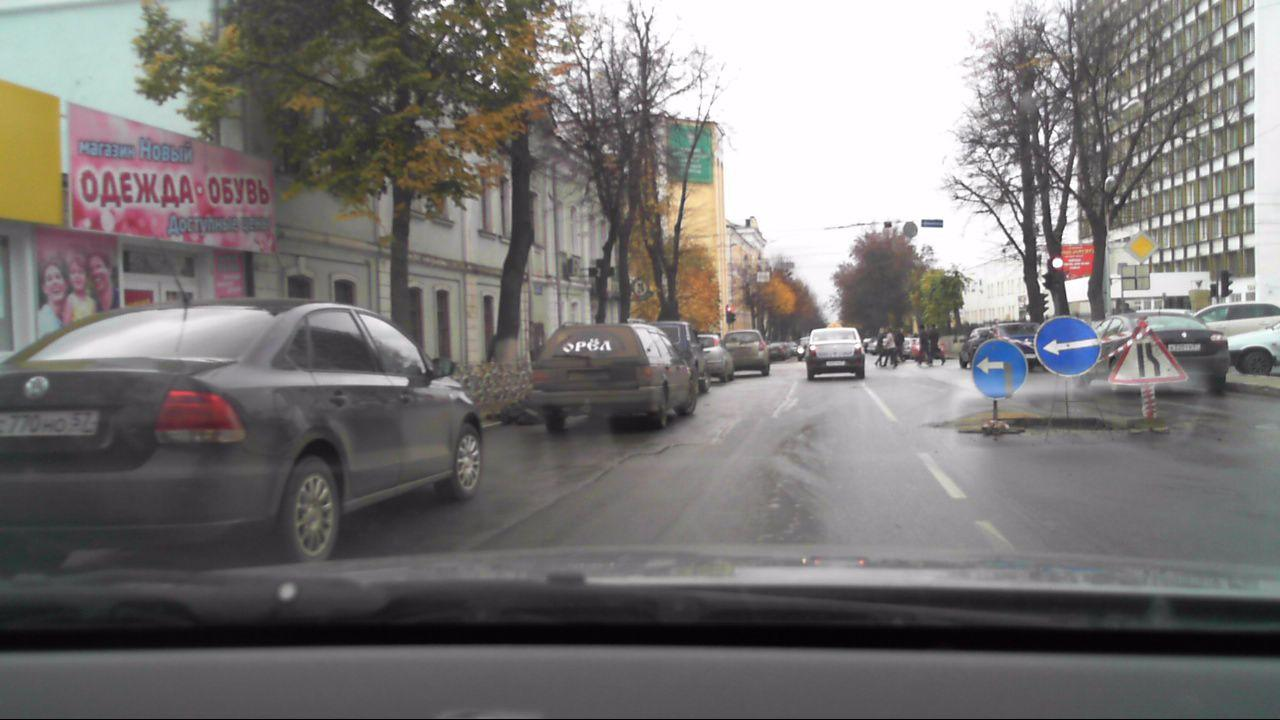1_20_2: (1114, 316, 1188, 385)
2_1: (1121, 228, 1159, 265)
4_2_2: (1031, 314, 1103, 375), (969, 337, 1028, 402)
5_7_2: (920, 217, 946, 230)
8_13: (1120, 263, 1152, 290)
